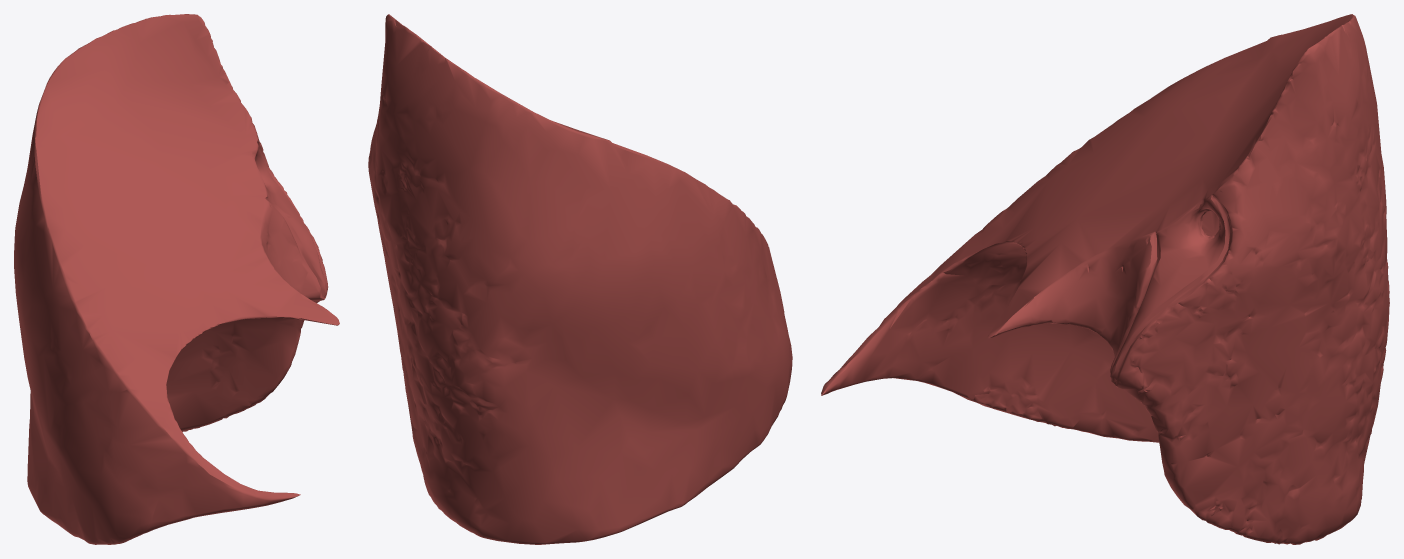
Rendered from lung2.fbx.
3 renders of one model, left to right at view 1: azimuth 30°, elevation 25°; view 2: azimuth 150°, elevation 25°; view 3: azimuth 270°, elevation 25°, orthographic. The views are drawn at different scales.
Visible parts, largest first — view 1: mesh; view 2: mesh; view 3: mesh.
Part boxes in pixels (left/top/right/bottom): mesh: left=14, top=14, right=339, bottom=544; mesh: left=368, top=14, right=792, bottom=544; mesh: left=821, top=14, right=1389, bottom=544.
Bounding box in the file's own units: 126 × 179 × 174.
